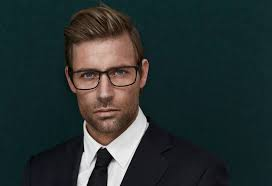g.y: (70, 70, 102, 90)
